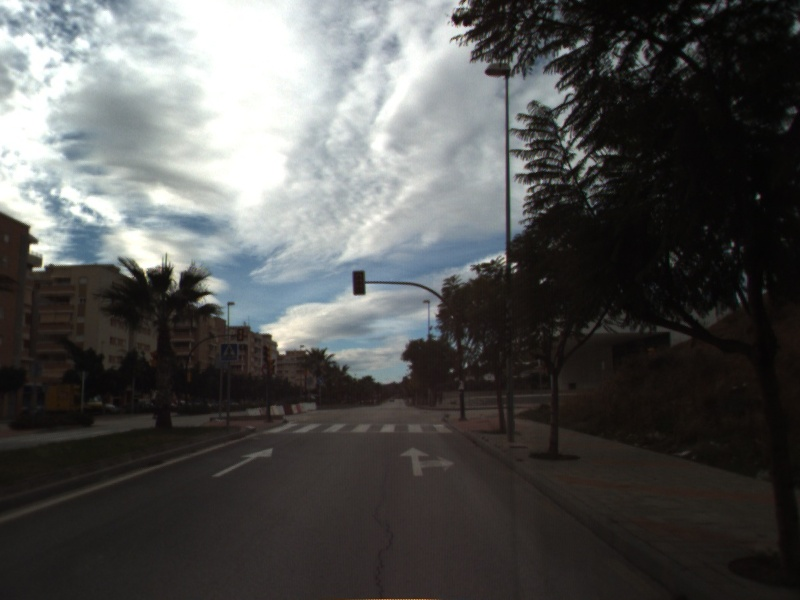STRAIGHT: (210, 446, 275, 479)
STRAIGHT_RIGHT: (398, 445, 457, 478)
